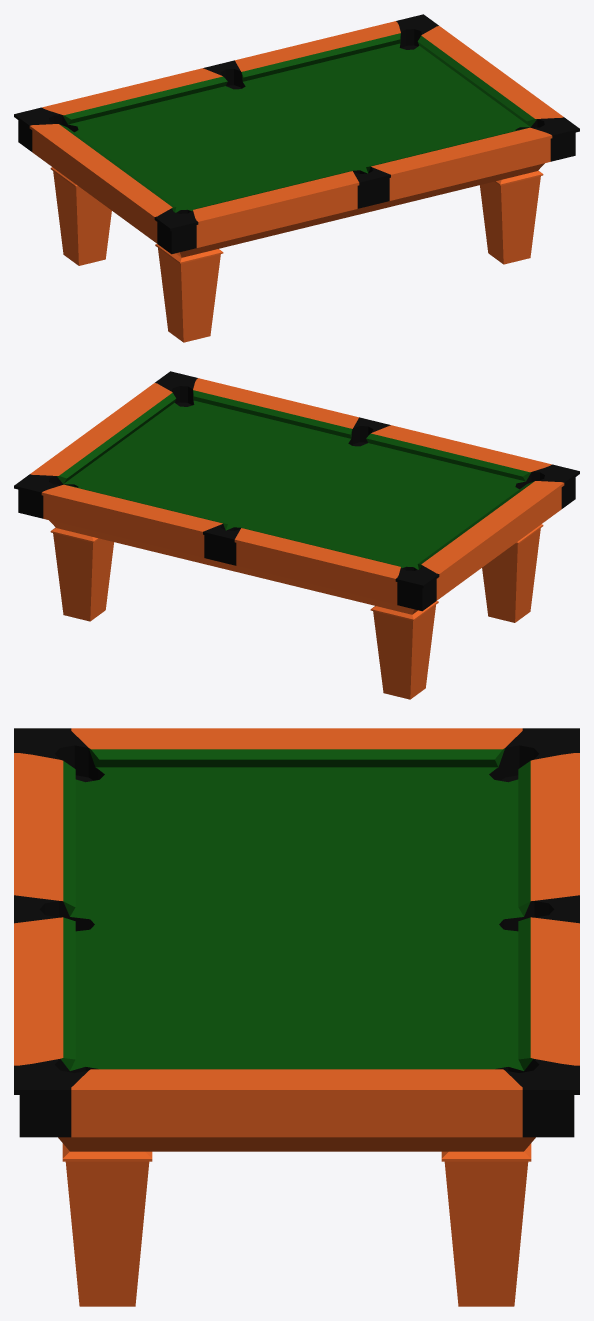
The model's file is pooltable.obj.
3 views of the same model, one above another, from view 1: azimuth 30°, elevation 25°; view 2: azimuth 150°, elevation 25°; view 3: azimuth 270°, elevation 25° (orthographic). The views are drawn at different scales.
Visible parts, largest first — view 1: PoolTable; view 2: PoolTable; view 3: PoolTable.
Part boxes in pixels (x1,y1,x2,y2): PoolTable: (14,14,579,342); PoolTable: (14,371,579,699); PoolTable: (14,728,579,1306).
Size of the model in its own units: 15.29 by 4.81 by 10.12.
